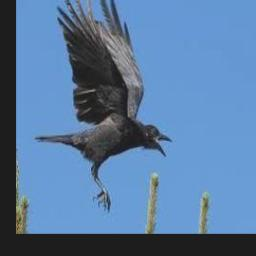Crow: (35, 0, 173, 212)
